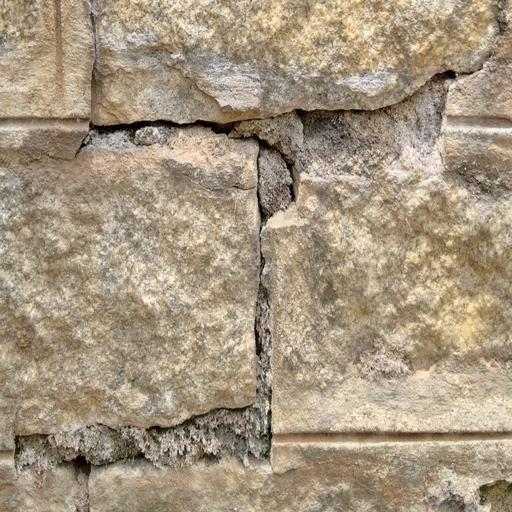major_crack: (15, 29, 489, 493)
